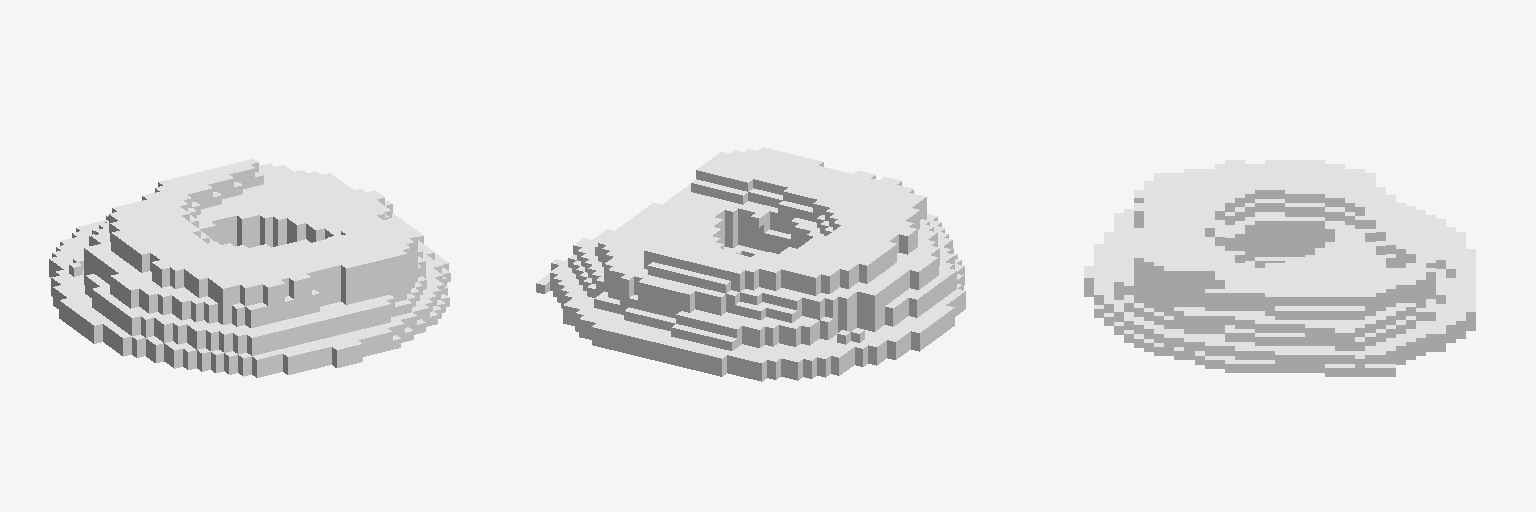
File: crater1.obj
3 views of the same model, side by side, from view 1: azimuth 30°, elevation 25°; view 2: azimuth 150°, elevation 25°; view 3: azimuth 270°, elevation 25° (orthographic).
Visible parts, largest first — view 1: object 1; view 2: object 1; view 3: object 1.
Boxes of the visible parts, x1=… form: object 1: x1=49, y1=159, x2=450, y2=377; object 1: x1=536, y1=147, x2=965, y2=381; object 1: x1=1084, y1=160, x2=1475, y2=376.
Size of the model in its own units: 4 by 0.8 by 3.9.